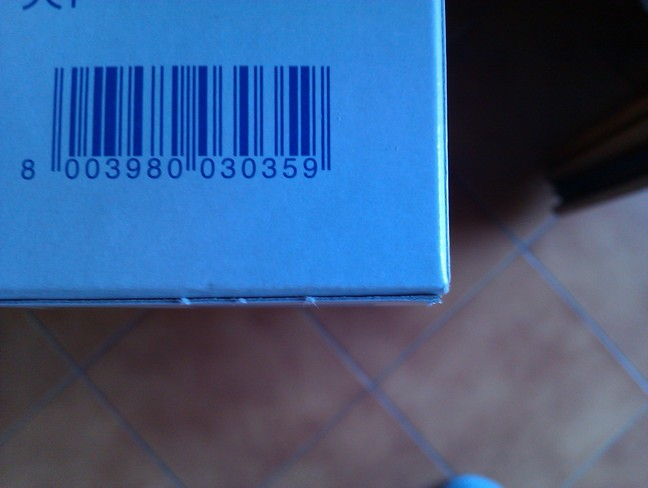detection: (8, 54, 339, 186)
